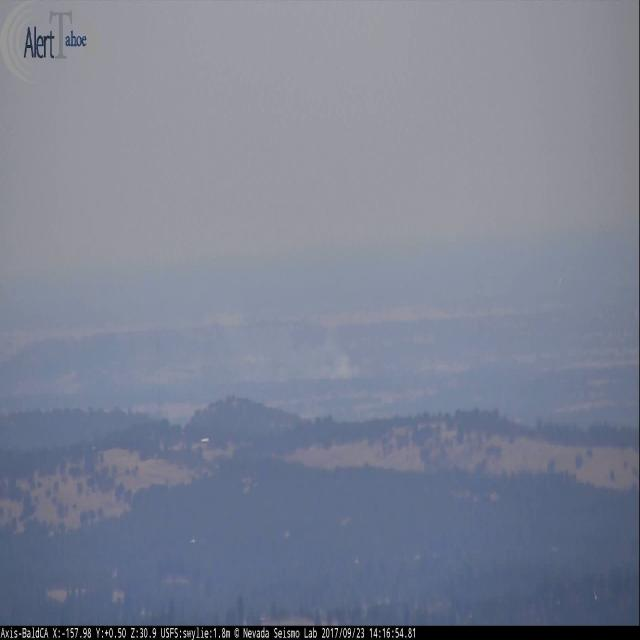smoke: (218, 322, 358, 380)
